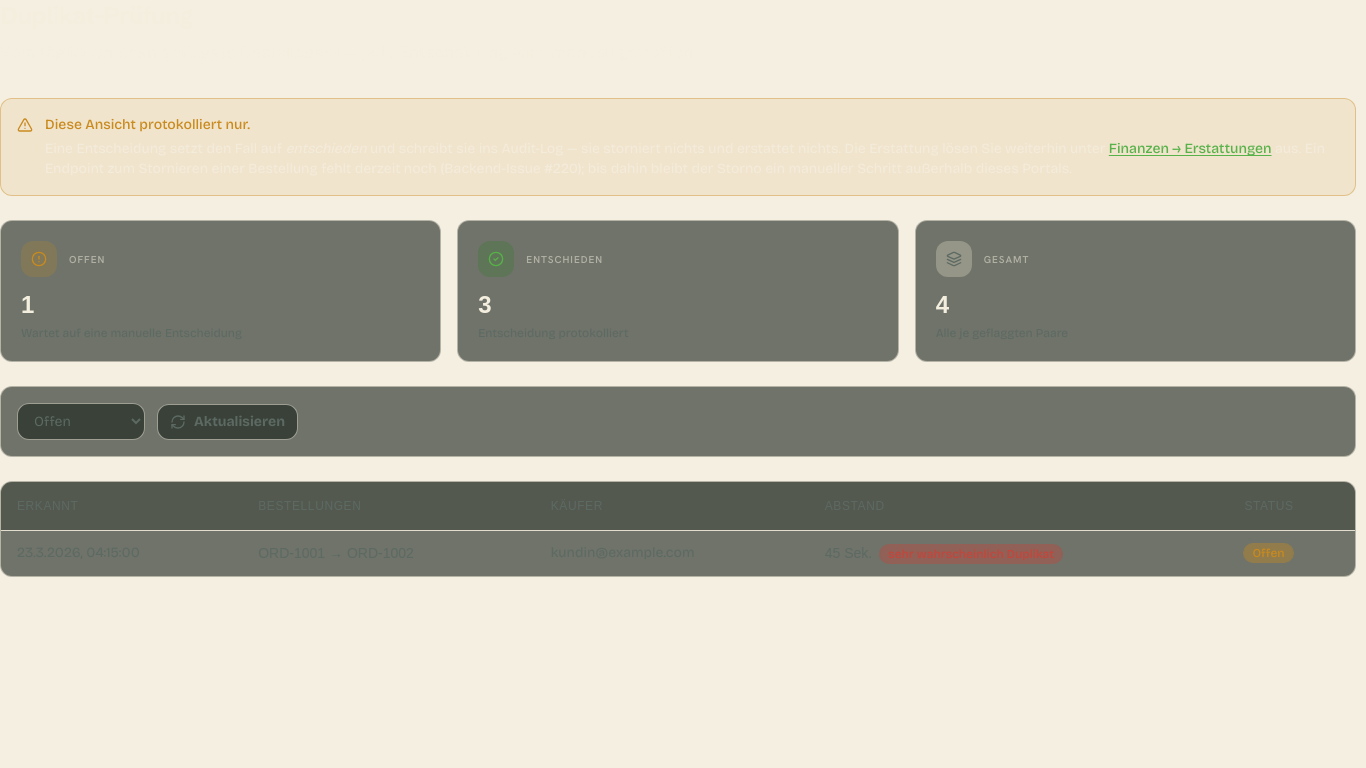
Scenario: AdminOrderDuplicates › weist bei Storno+Erstattung auf den fehlenden Storno-Endpoint hin
Step 1. Click the text "ORD-1001 → ORD-1002" → (678, 553), box top-left (1, 530), bottom-right (1355, 576)
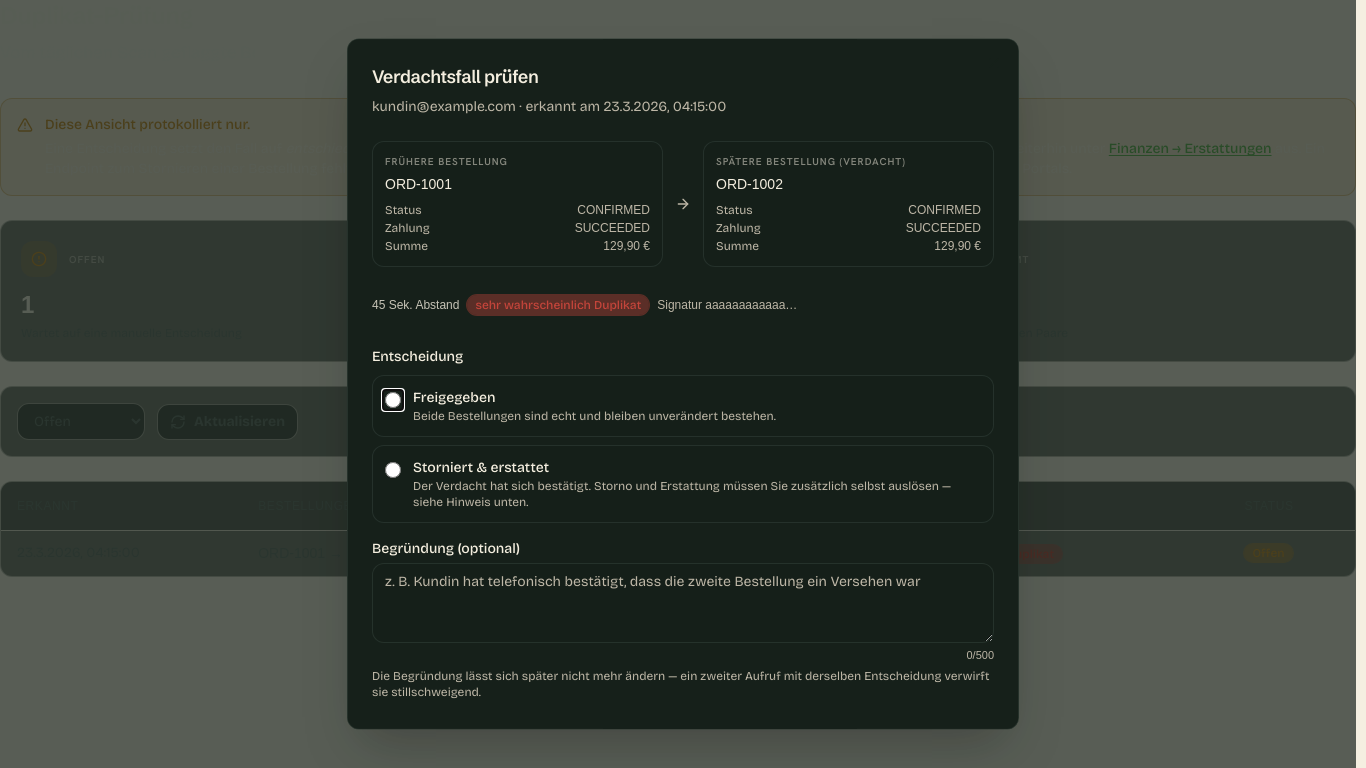
Step 2. Click the radio button labelled "Storniert & erstattet" → (393, 470), box top-left (385, 462), bottom-right (401, 478)
(page scrolled)
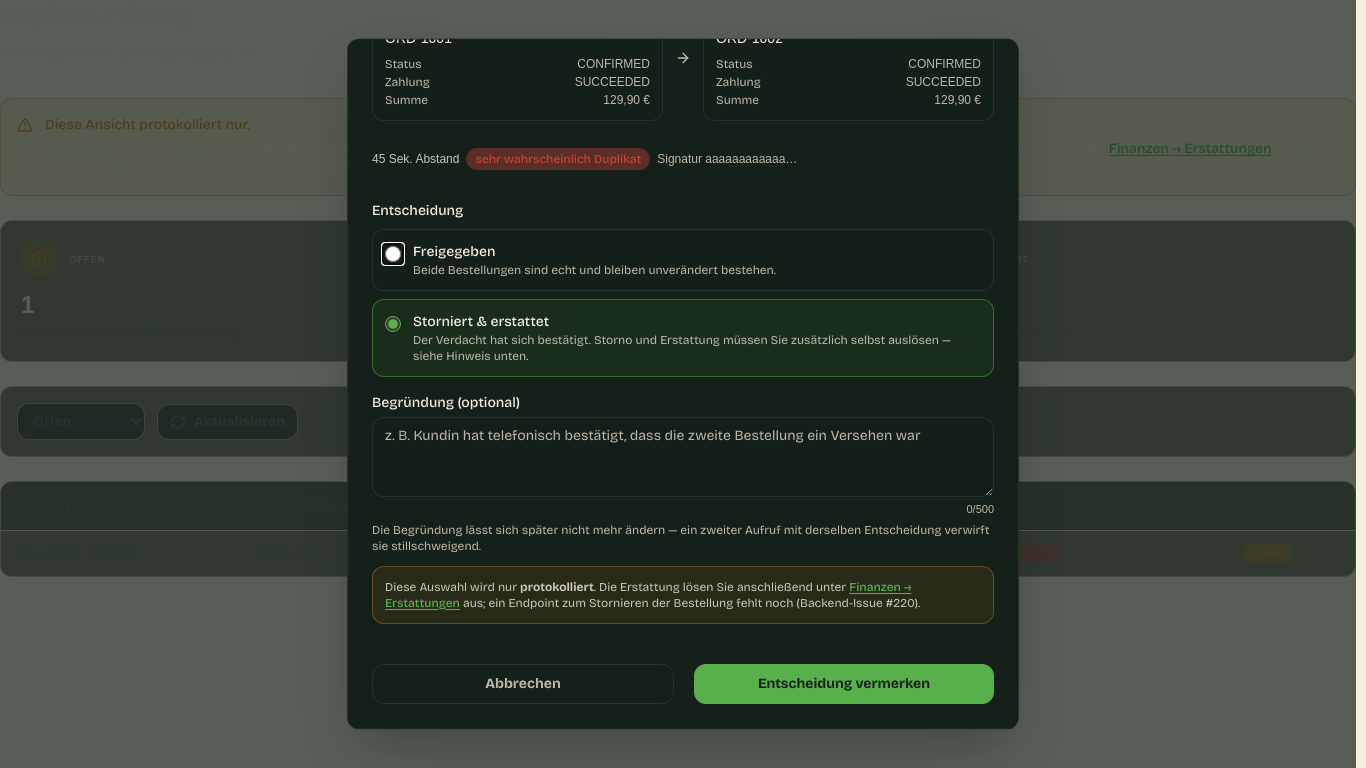
Now the text "Backend-Issue #220" is shown, box top-left (463, 596), bottom-right (920, 610)
